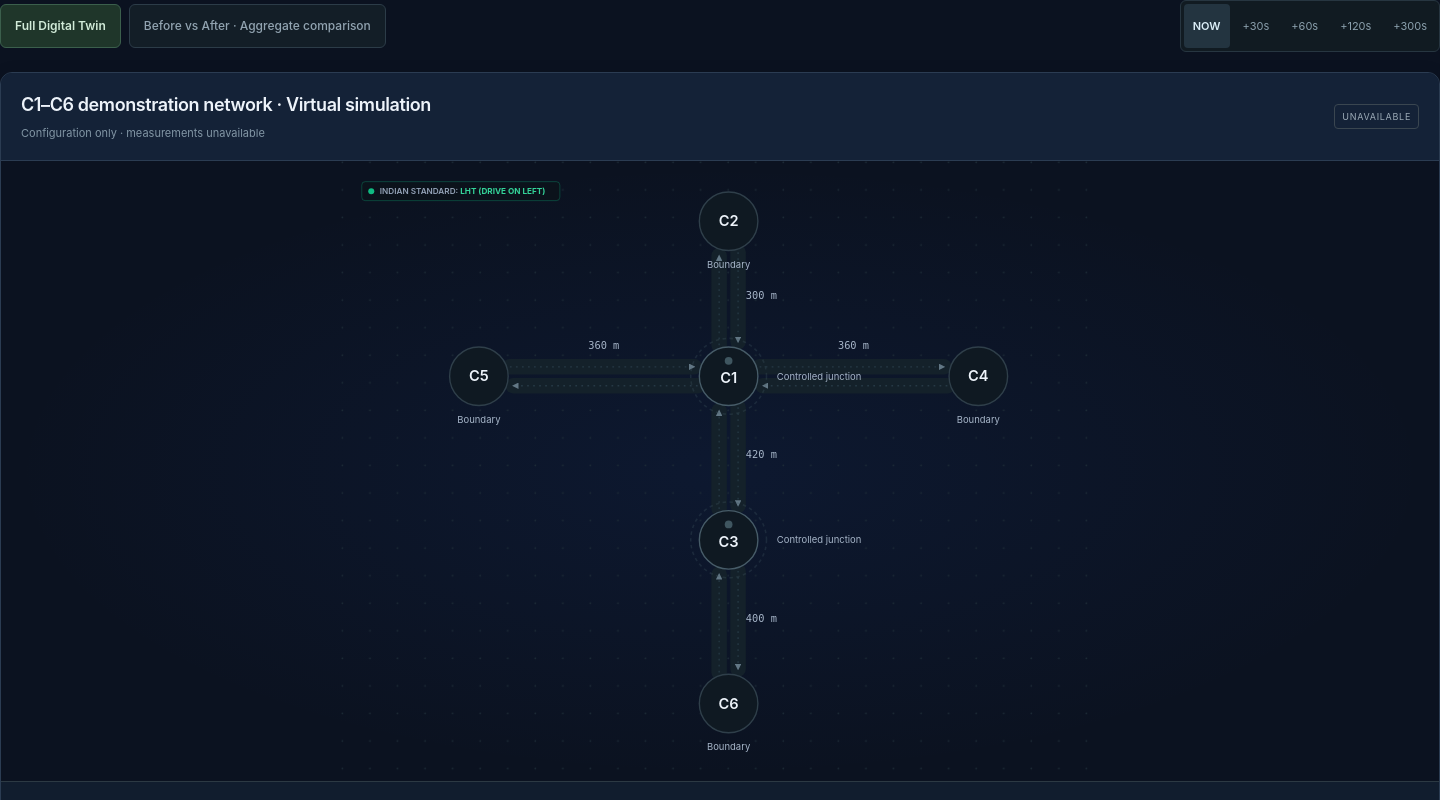
Scenario: comparison evidence › shows unavailable instead of invented outcomes without a result
Click the button "Before vs After · Aggregate comparison": (257, 26) [129,4,386,48]
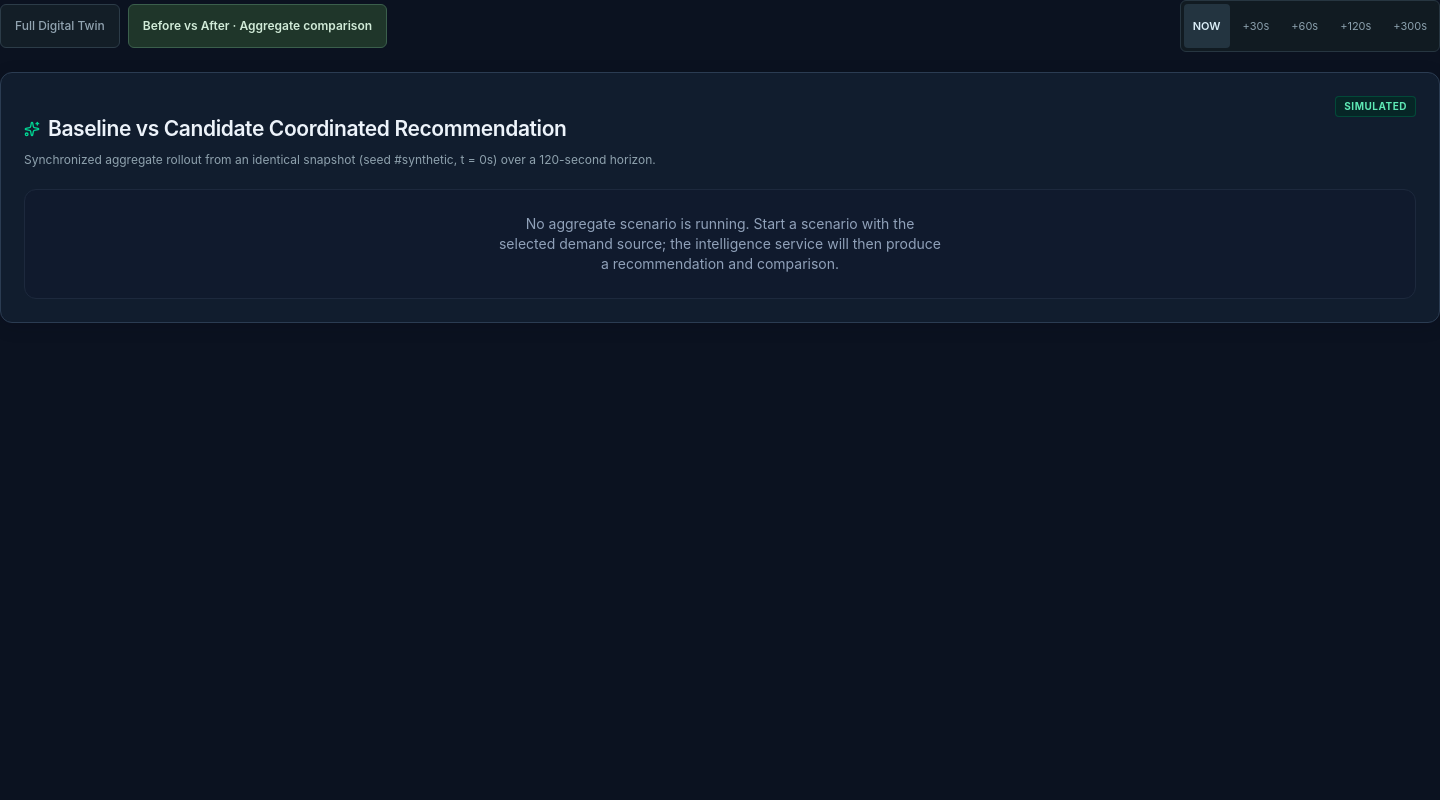
Now the message shows "No aggregate scenario is running", box [499,214,941,272]
